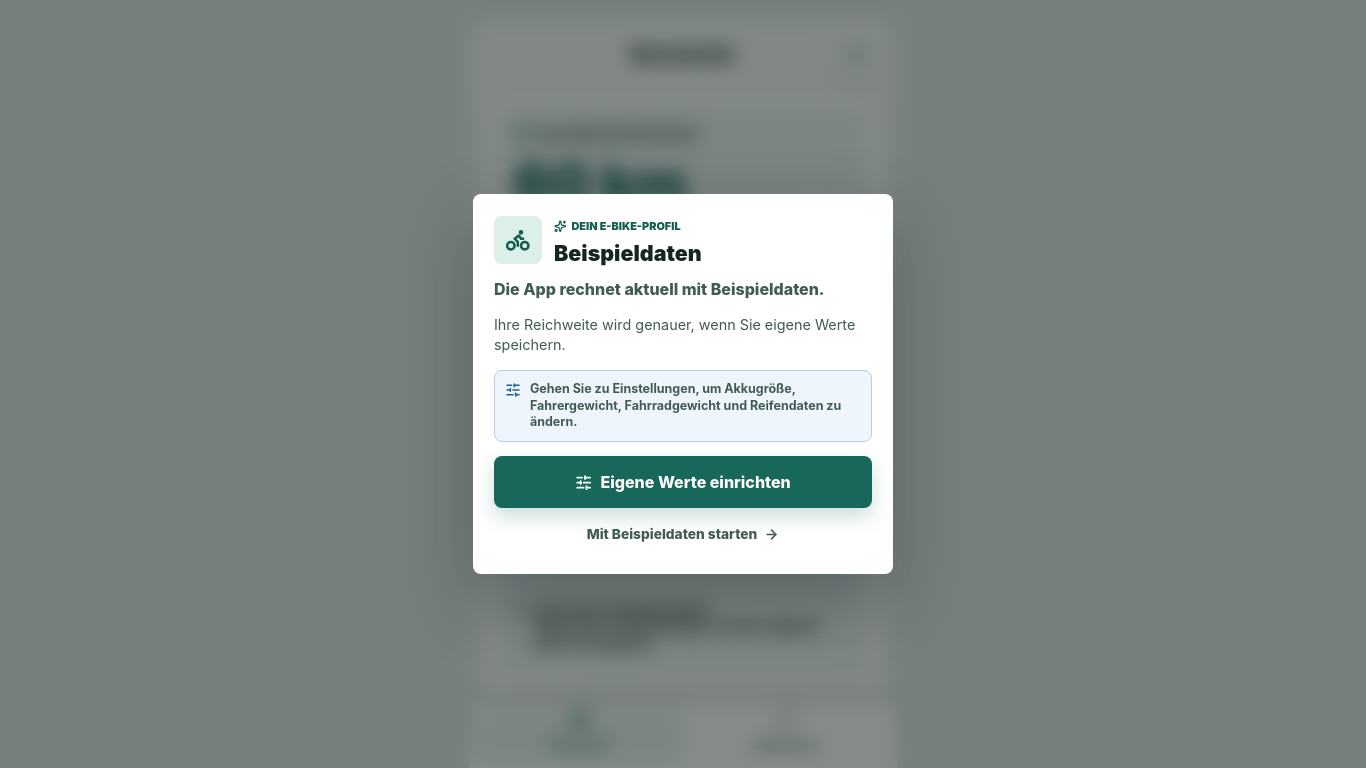
Test case: App › aktualisiert die Reichweite live
What coordinates should you click on to do the following:
click the button "Mit Beispieldaten starten"
I would click on:
 (683, 534)
Its box is 494,515 -> 872,553.
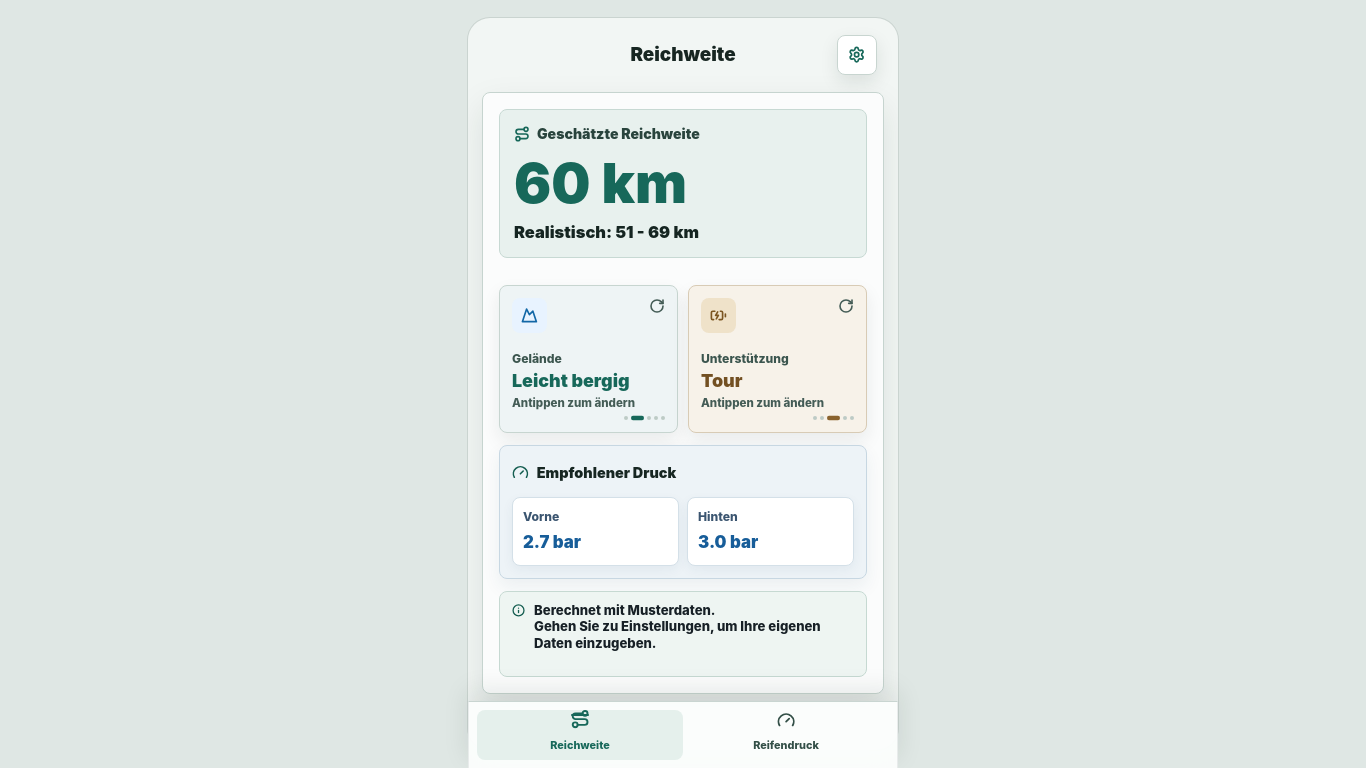
What coordinates should you click on to do the following:
click the button with aria-label "Unterstützung: Tour"
I would click on:
 (778, 359)
Its box is 688,285 -> 867,433.
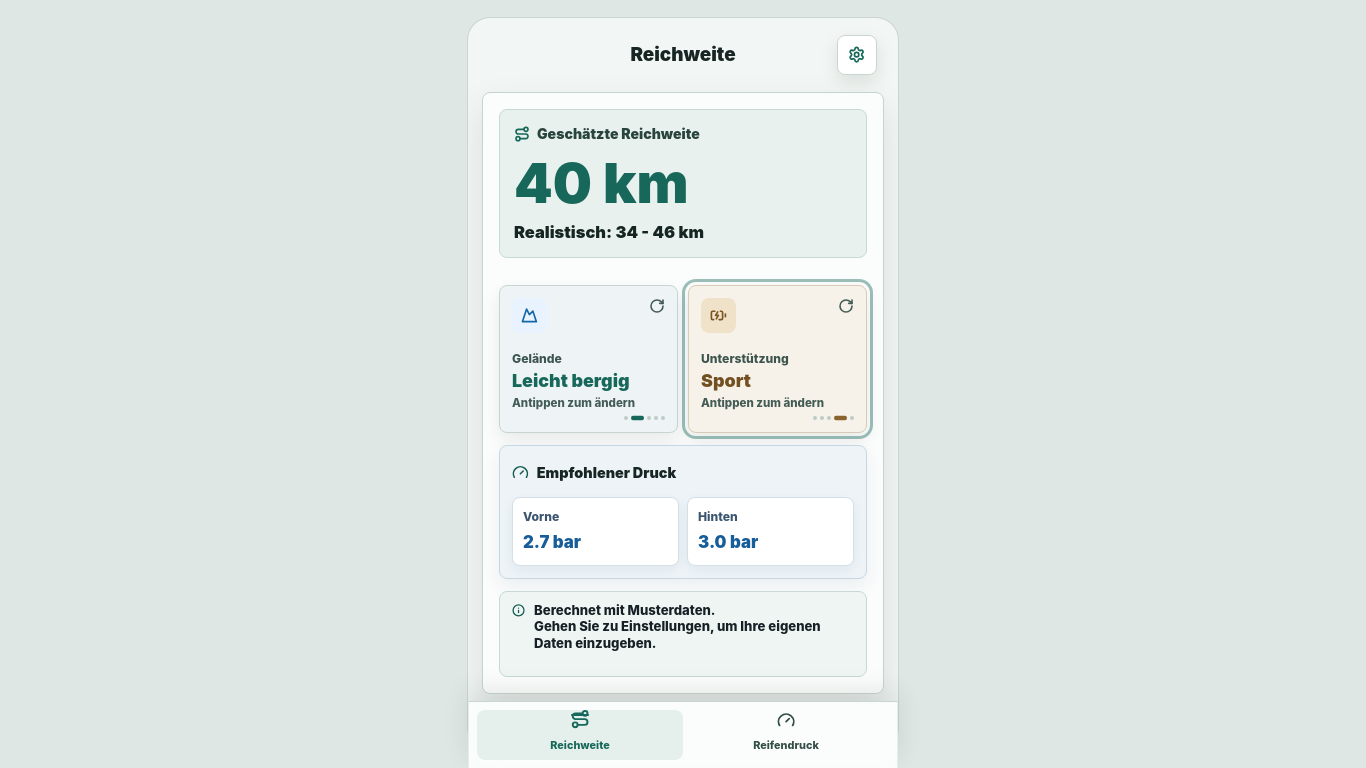
Expected: the text "40 km" is shown, 514,150 -> 688,216
Expected: the button with aria-label "Unterstützung: Sport" is shown, 688,285 -> 867,433
